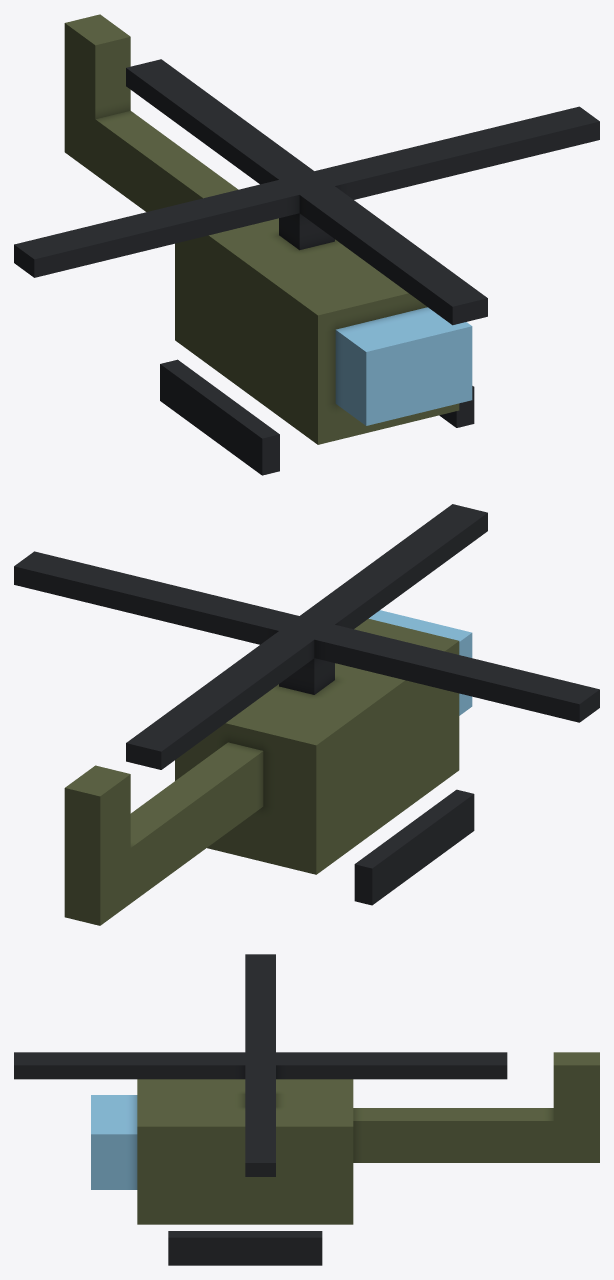
The model's file is u_heli.glb.
3 views of the same model, one above another, from view 1: azimuth 30°, elevation 25°; view 2: azimuth 150°, elevation 25°; view 3: azimuth 270°, elevation 25° (orthographic). The views are drawn at different scales.
Parts seen in each view (by area): view 1: u_heli_body; view 2: u_heli_body; view 3: u_heli_body.
Part boxes in pixels (x1,y1,x2,y2): u_heli_body: [14, 14, 599, 475]; u_heli_body: [14, 504, 599, 925]; u_heli_body: [14, 954, 599, 1265].
Bounding box in the file's own units: 2 × 0.75 × 2.38.
1 material, 1 textured.
